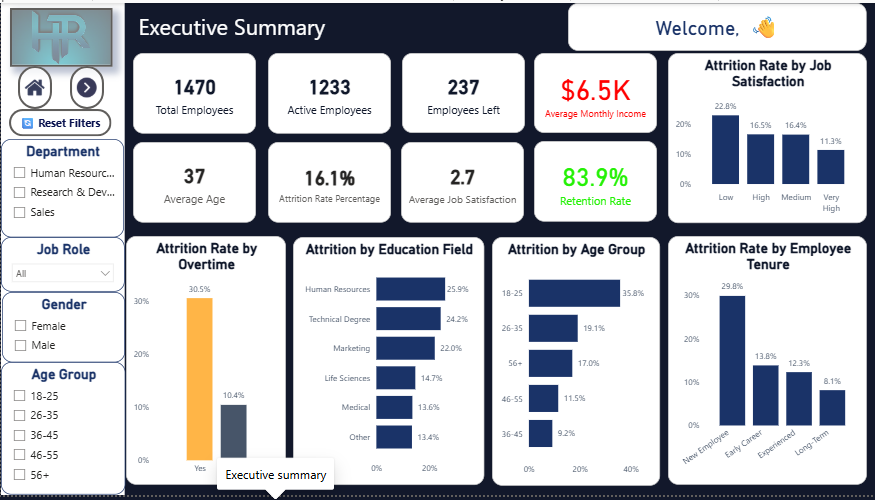

The page's visual inventory and layout, read from the dashboard file:
{"tool":"powerbi","page":{"name":"Executive summary","canvas":[1280,720],"ordinal":1},"visuals":[{"type":"shape","box":[0,0,181.2,720],"z":0},{"type":"card","fields":{"Values":["_Measures.Total Employees"]},"box":[193.8,72.5,180,117.5],"z":1000},{"type":"card","fields":{"Values":["_Measures.Average Age"]},"box":[193.8,203.8,180,117.5],"z":2000},{"type":"clusteredColumnChart","title":"Attrition Rate by Job Satisfaction","fields":{"Y":["_Measures.Attrition Rate Percentage"],"Category":["FactEmployee.Job Satisfaction Level"]},"box":[976.2,72.5,291.2,248.8],"z":3000},{"type":"card","fields":{"Values":["_Measures.Employees Left"]},"box":[586.8,73.2,180,117.1],"z":4000},{"type":"card","fields":{"Values":["_Measures.Attrition Rate Percentage"]},"box":[390,203.8,180,117.5],"z":5000},{"type":"clusteredColumnChart","title":"Attrition Rate by Overtime","fields":{"Y":["_Measures.Attrition Rate Percentage"],"Category":["FactEmployee.OverTime"]},"box":[182.9,341.4,234.3,364.3],"z":6000},{"type":"card","fields":{"Values":["_Measures.Retention Rate"]},"box":[780,202,180,118],"z":7000},{"type":"clusteredColumnChart","title":"Attrition Rate by Employee Tenure","fields":{"Category":["FactEmployee.TensureGroup"],"Y":["_Measures.Attrition Rate Percentage"]},"box":[975.7,341.4,291.4,364.3],"z":8000},{"type":"card","fields":{"Values":["_Measures.Active Employees"]},"box":[390,72.5,180,117.5],"z":9000},{"type":"clusteredBarChart","title":"Attrition by Age Group","fields":{"Category":["FactEmployee.AgeGroup"],"Y":["_Measures.Attrition Rate Percentage"]},"box":[718.6,342.9,245.7,364.3],"z":10000},{"type":"textbox","box":[196.7,6.7,633.3,55],"z":11000},{"type":"card","fields":{"Values":["_Measures.Average Job Satisfaction"]},"box":[586,204,180,118],"z":12000},{"type":"slicer","title":"Gender","fields":{"Values":["DimGender.Gender"]},"box":[1.4,422.9,180,102.9],"z":13000},{"type":"card","fields":{"Values":["_Measures.Average Monthly Income"]},"box":[780,73.2,180,117.1],"z":14000},{"type":"actionButton","box":[12.5,7.5,150,86.2],"z":15000},{"type":"slicer","title":"Job Role","fields":{"Values":["DimJobRole.JobRole"]},"box":[0,342.9,181.4,80],"z":16000},{"type":"slicer","title":"Age Group","fields":{"Values":["FactEmployee.AgeGroup"]},"box":[0,526,182,194],"z":17000},{"type":"card","fields":{"Values":["_Measures.Welcome User"]},"box":[830,0,436.7,70],"z":18000},{"type":"slicer","title":"Department","fields":{"Values":["DimDepartment.Department"]},"box":[0,198.6,180,144.3],"z":19000},{"type":"actionButton","box":[0,33.8,100,6.2],"z":20000},{"type":"actionButton","box":[11.4,155.7,150,40],"z":21000},{"type":"actionButton","box":[24.9,92.2,49.8,62.9],"z":22000},{"type":"actionButton","box":[101,92.2,49.8,62.9],"z":23000},{"type":"barChart","title":"Attrition by Education Field","fields":{"Category":["DimEducationField.EducationField"],"Y":["_Measures.Attrition Rate Percentage"]},"box":[427.1,342.9,280,362.9],"z":24000}]}

Visuals, with their boxes in screenshot pixels (x1, y1, x2, y2):
shape: <region>0, 5, 122, 490</region>
card - _Measures.Total Employees: <region>131, 53, 252, 133</region>
card - _Measures.Average Age: <region>131, 142, 252, 221</region>
"Attrition Rate by Job Satisfaction" clusteredColumnChart: <region>658, 53, 854, 221</region>
card - _Measures.Employees Left: <region>396, 54, 517, 133</region>
card - _Measures.Attrition Rate Percentage: <region>263, 142, 384, 221</region>
"Attrition Rate by Overtime" clusteredColumnChart: <region>123, 235, 281, 480</region>
card - _Measures.Retention Rate: <region>526, 141, 647, 220</region>
"Attrition Rate by Employee Tenure" clusteredColumnChart: <region>658, 235, 854, 480</region>
card - _Measures.Active Employees: <region>263, 53, 384, 133</region>
"Attrition by Age Group" clusteredBarChart: <region>484, 236, 650, 481</region>
textbox: <region>133, 9, 560, 46</region>
card - _Measures.Average Job Satisfaction: <region>395, 142, 516, 222</region>
"Gender" slicer: <region>1, 290, 122, 359</region>
card - _Measures.Average Monthly Income: <region>526, 54, 647, 133</region>
actionButton: <region>8, 10, 110, 68</region>
"Job Role" slicer: <region>0, 236, 122, 290</region>
"Age Group" slicer: <region>0, 359, 123, 490</region>
card - _Measures.Welcome User: <region>560, 5, 854, 52</region>
"Department" slicer: <region>0, 138, 121, 236</region>
actionButton: <region>0, 27, 67, 32</region>
actionButton: <region>8, 110, 109, 136</region>
actionButton: <region>17, 67, 50, 109</region>
actionButton: <region>68, 67, 102, 109</region>
"Attrition by Education Field" barChart: <region>288, 236, 477, 480</region>
